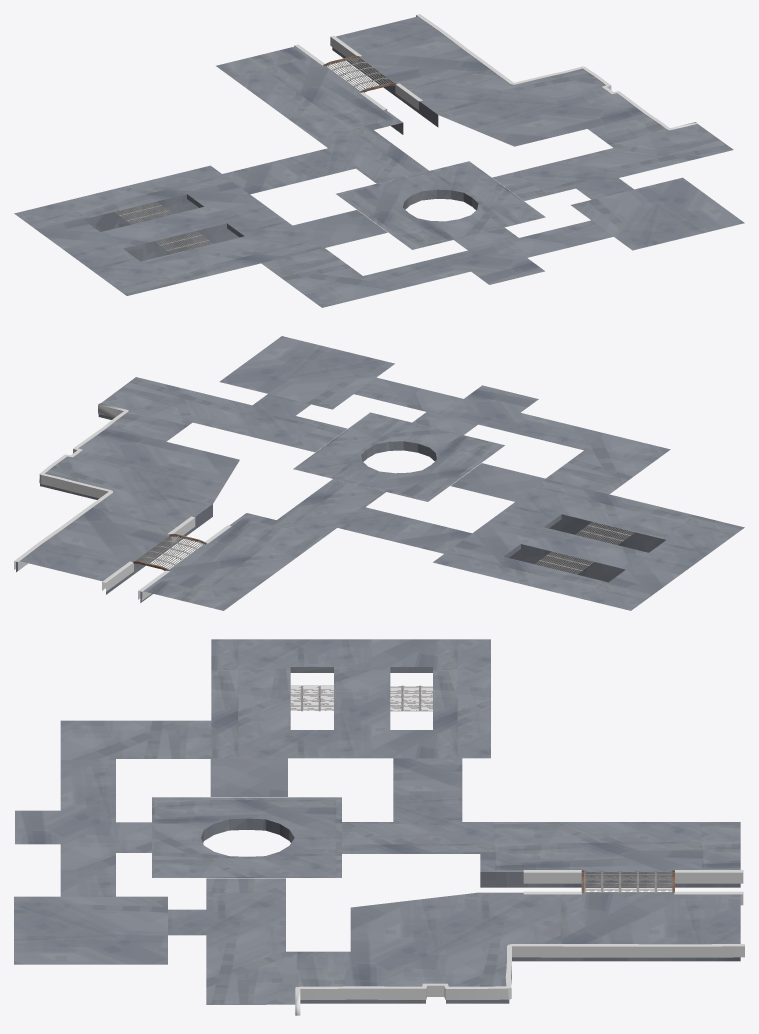
The model's file is Sewer_Floor.fbx.
3 views of the same model, one above another, from view 1: azimuth 30°, elevation 25°; view 2: azimuth 150°, elevation 25°; view 3: azimuth 270°, elevation 25° (orthographic). The views are drawn at different scales.
Visible parts, largest first — view 1: SW_Floor; view 2: SW_Floor; view 3: SW_Floor.
Boxes of the visible parts, x1=… form: SW_Floor: x1=14, y1=14, x2=744, y2=307; SW_Floor: x1=14, y1=336, x2=744, y2=610; SW_Floor: x1=14, y1=639, x2=744, y2=1015.
Size of the model in its own units: 8110 by 256 by 6852.
